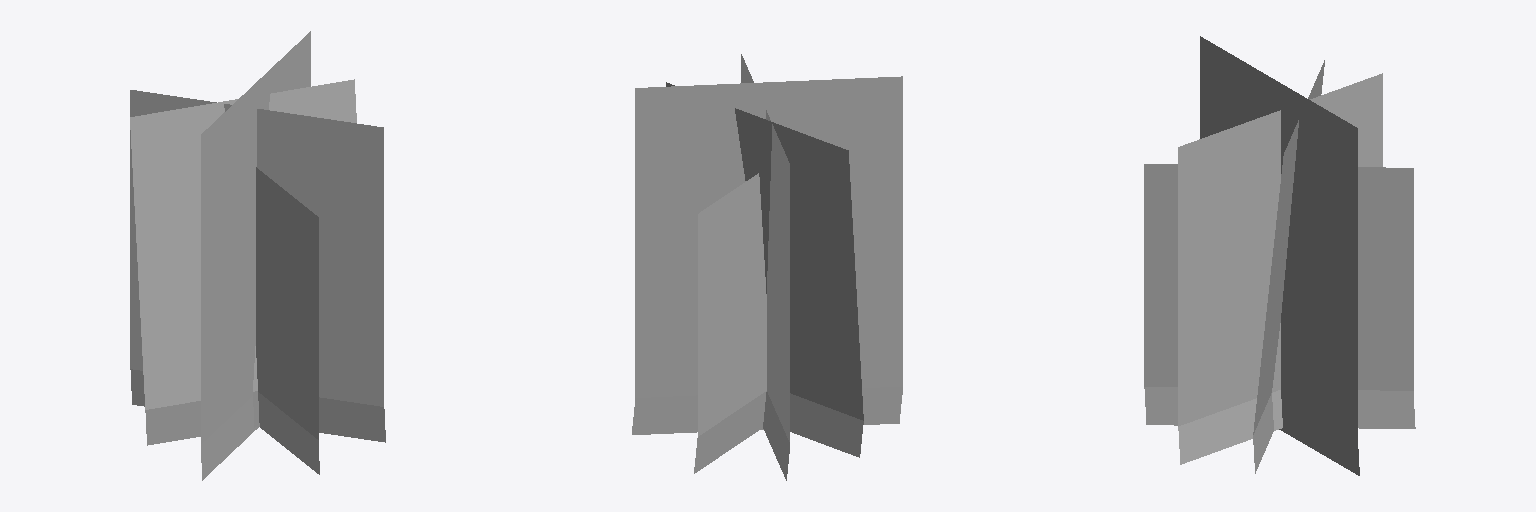
Rendered from pine2.obj.
3 views of the same model, side by side, from view 1: azimuth 30°, elevation 25°; view 2: azimuth 150°, elevation 25°; view 3: azimuth 270°, elevation 25° (orthographic).
Parts seen in each view (by area): view 1: Pine2_pine2.002; view 2: Pine2_pine2.002; view 3: Pine2_pine2.002.
Boxes of the visible parts, box(x1,y1,x2,y2) form: Pine2_pine2.002: box(130, 31, 385, 480); Pine2_pine2.002: box(632, 54, 902, 480); Pine2_pine2.002: box(1144, 36, 1415, 475).
Bounding box in the file's own units: 2.2 × 3.53 × 2.5.